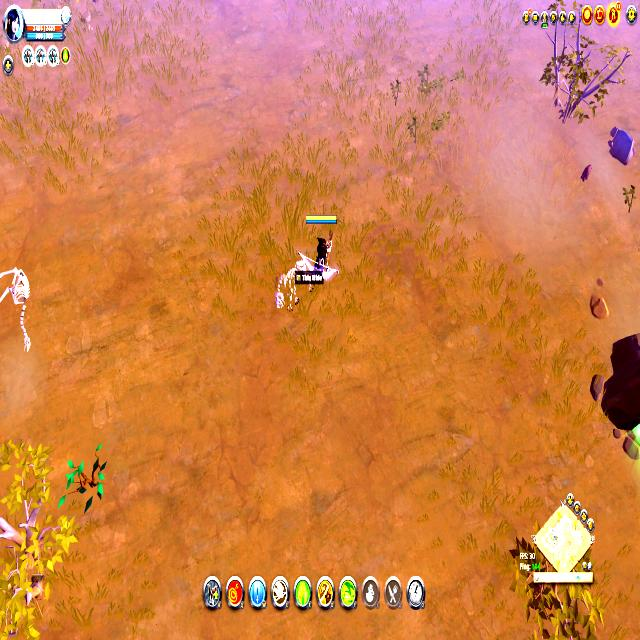red: (303, 210, 338, 284)
